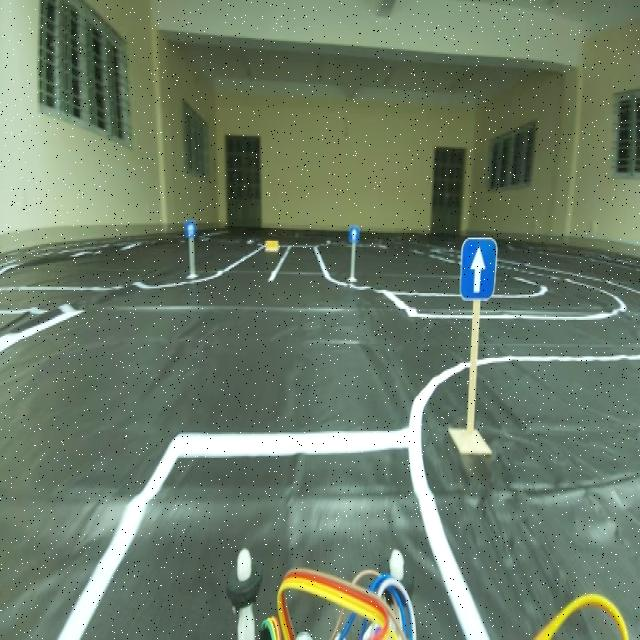onewayroad: (460, 232, 493, 310), (349, 222, 361, 250), (182, 214, 195, 237)
roadblock: (261, 233, 282, 257)
